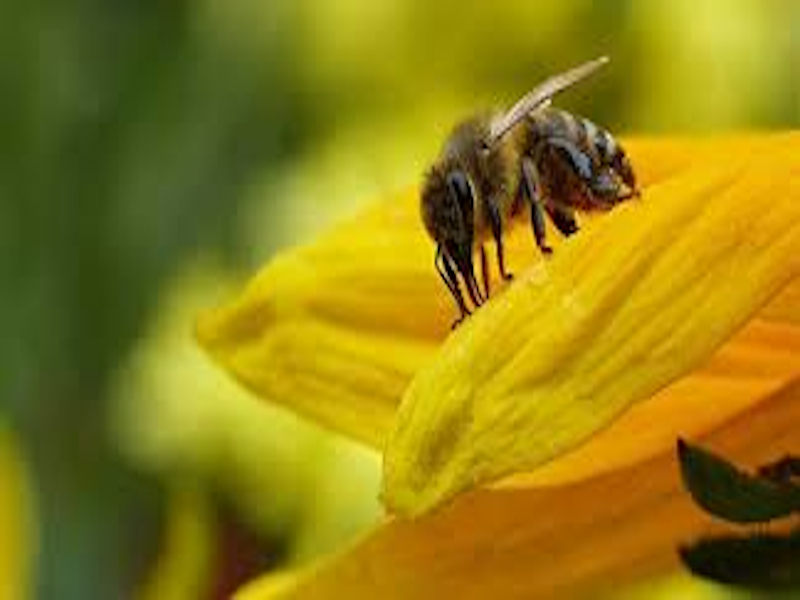abeja: (405, 35, 659, 310)
